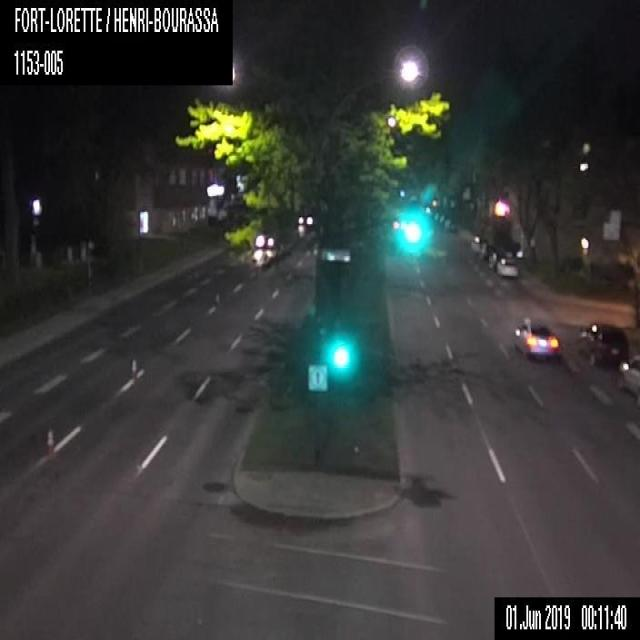construction: (44, 423, 56, 461), (129, 354, 140, 389)
vehicle: (576, 319, 628, 368), (513, 315, 560, 360), (618, 352, 639, 406), (495, 255, 519, 277), (487, 248, 506, 271), (470, 236, 485, 254), (443, 218, 459, 234), (479, 242, 494, 259)
